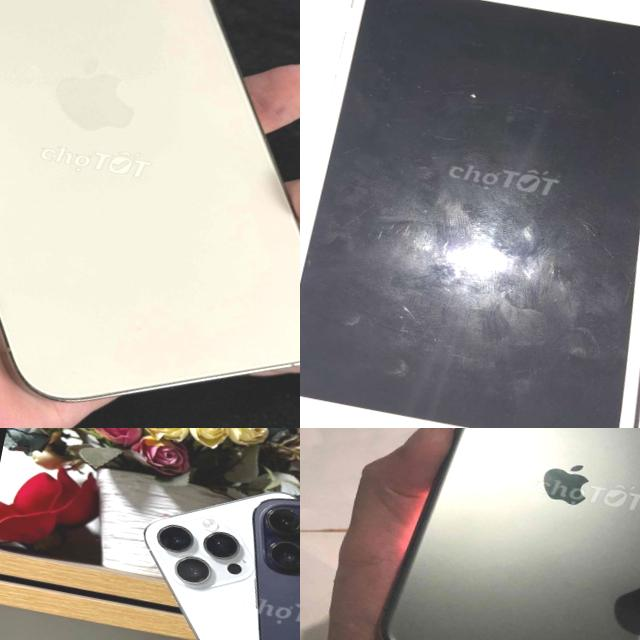scratch: (339, 406, 380, 428)
